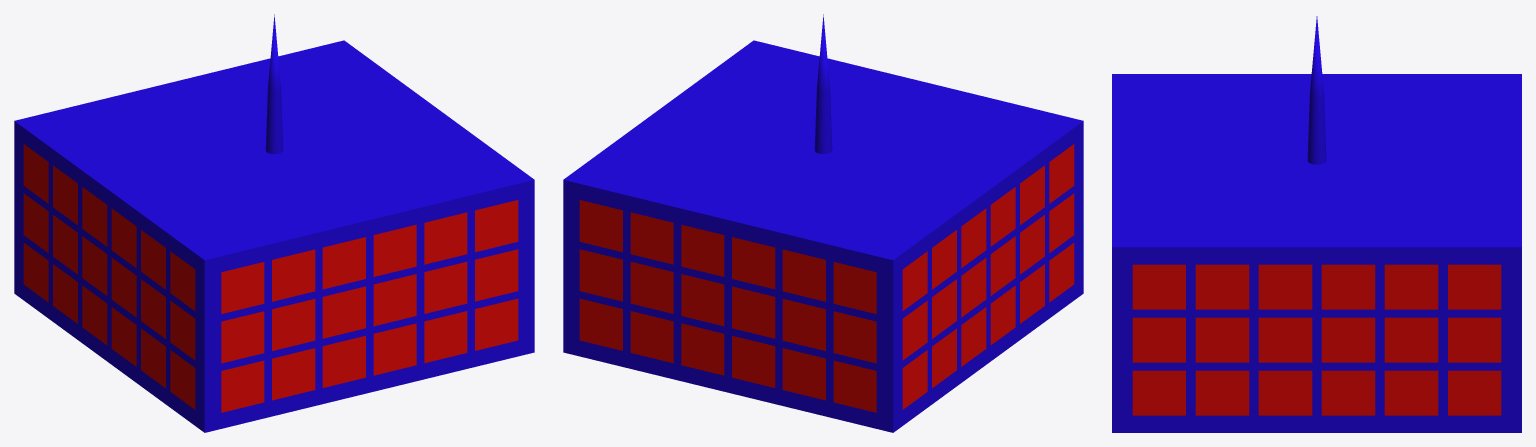
File: BuildingTemplate2.fbx
3 views of the same model, side by side, from view 1: azimuth 30°, elevation 25°; view 2: azimuth 150°, elevation 25°; view 3: azimuth 270°, elevation 25° (orthographic). The views are drawn at different scales.
Parts seen in each view (by area): view 1: LargeCube, FlagTopper; view 2: LargeCube, FlagTopper; view 3: LargeCube, FlagTopper.
Part boxes in pixels (x1,y1,x2,y2): LargeCube: [14, 40, 534, 432]; FlagTopper: [265, 14, 283, 153]; LargeCube: [563, 40, 1083, 432]; FlagTopper: [814, 14, 832, 153]; LargeCube: [1112, 74, 1521, 432]; FlagTopper: [1307, 16, 1326, 164].
Bounding box in the file's own units: 4800 × 4295 × 4800.
